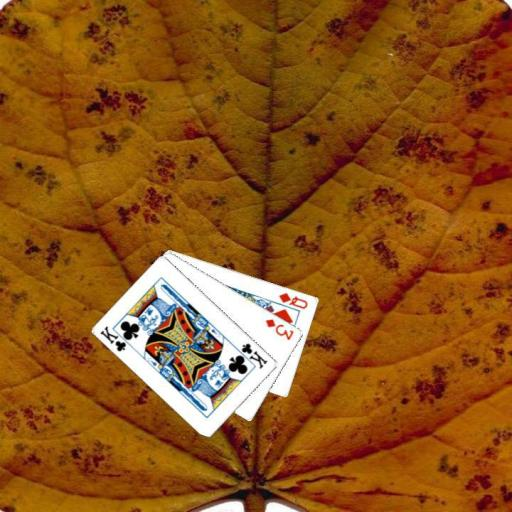3D: (262, 316, 296, 342)
KC: (233, 340, 270, 370), (98, 323, 135, 353)
QD: (276, 289, 309, 310)
